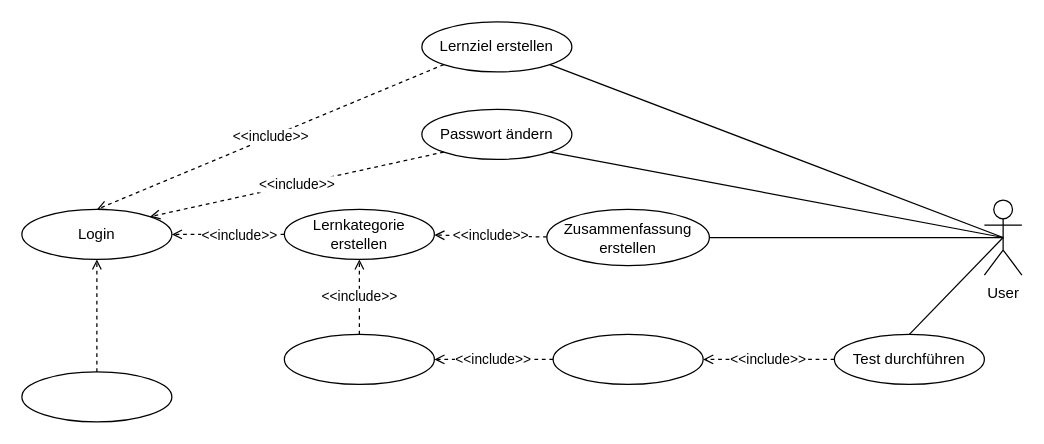
The diagram is 1044 pixels wide and 444 high, and some of its shapes have lost their labels. Here are the shapes that lost their labels. From the top down, the centre of each, then its label:
[358,358]: Frage erstellen
[627,358]: Test erstellen
[96,396]: Registrieren
